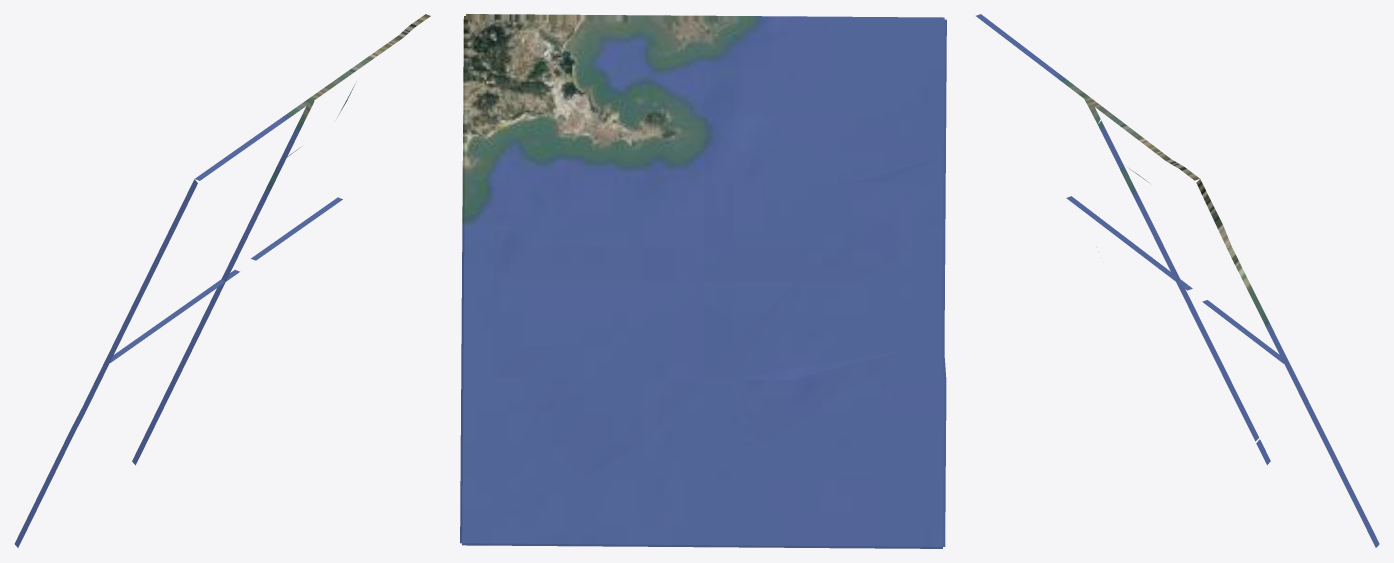
3 renders of one model, left to right at view 1: azimuth 30°, elevation 25°; view 2: azimuth 150°, elevation 25°; view 3: azimuth 270°, elevation 25°, orthographic. The views are drawn at different scales.
Size of the model in its own units: 39512 by 35987 by 32080.
1 material, 1 textured.
